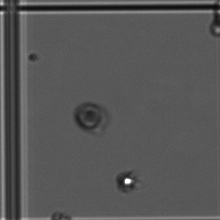Dead Cell: (73, 100, 108, 135)
Living Cell: (116, 171, 142, 192)
